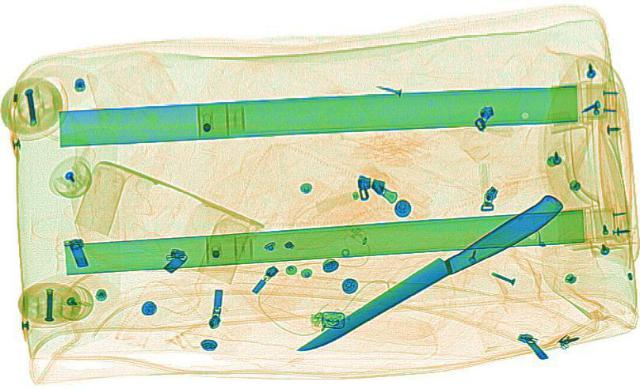Knife: (288, 193, 574, 356)
